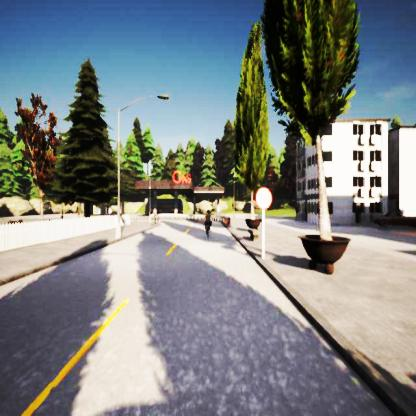motobike: (204, 210, 213, 237)
